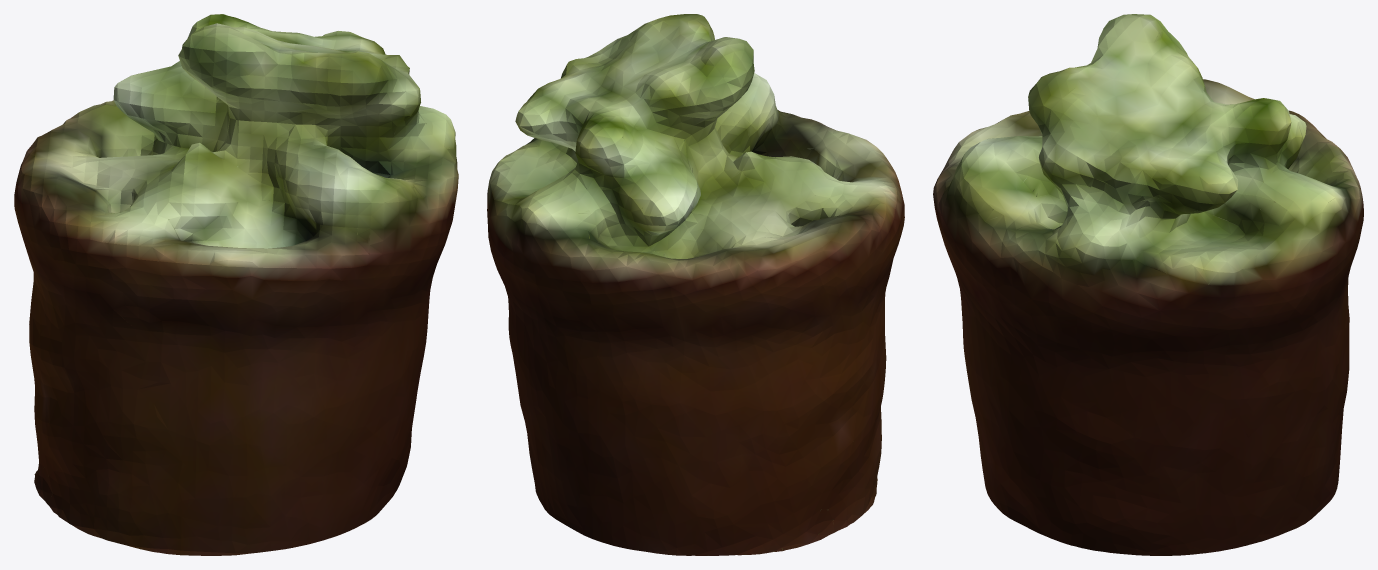
File: plant.obj
3 renders of one model, left to right at view 1: azimuth 30°, elevation 25°; view 2: azimuth 150°, elevation 25°; view 3: azimuth 270°, elevation 25°, orthographic. The views are drawn at different scales.
Parts seen in each view (by area): view 1: cut_cloth_plant; view 2: cut_cloth_plant; view 3: cut_cloth_plant.
Boxes of the visible parts, box(x1,y1,x2,y2) form: cut_cloth_plant: box(14, 14, 458, 555); cut_cloth_plant: box(487, 14, 904, 555); cut_cloth_plant: box(933, 14, 1363, 555).
Size of the model in its own units: 0.0746 by 0.0859 by 0.0736.
1 material, 1 textured.
